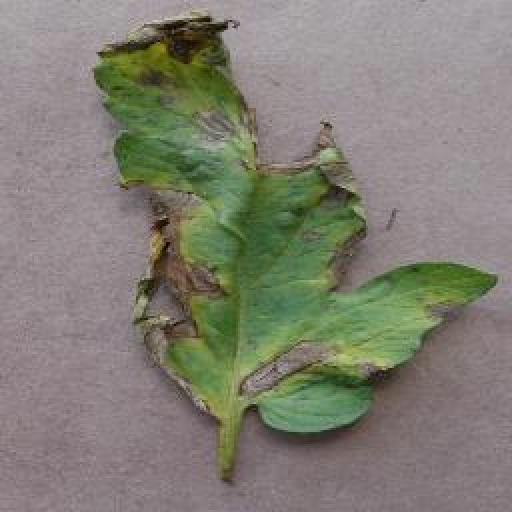disease_tomato: (94, 11, 500, 441)
